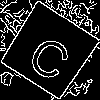C: (24, 25, 80, 84)
